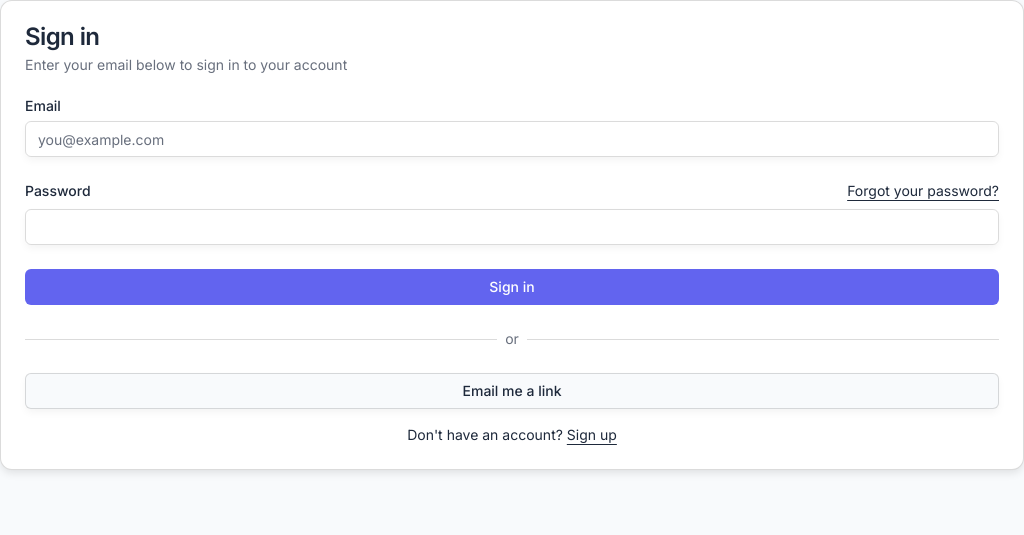
Test case: LoginForm › should show suspension copy when sign in is blocked for a banned user
In the field labelled "Email": (512, 139) 25,121 -> 999,157, type "banned@example.com"
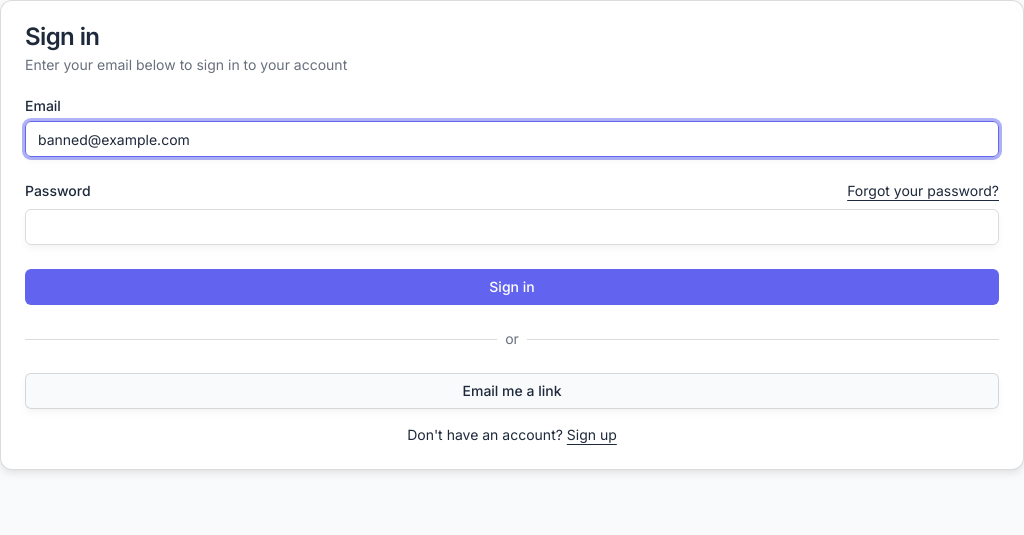
In the password field labelled "Password": (512, 227) 25,209 -> 999,245, type "password123"
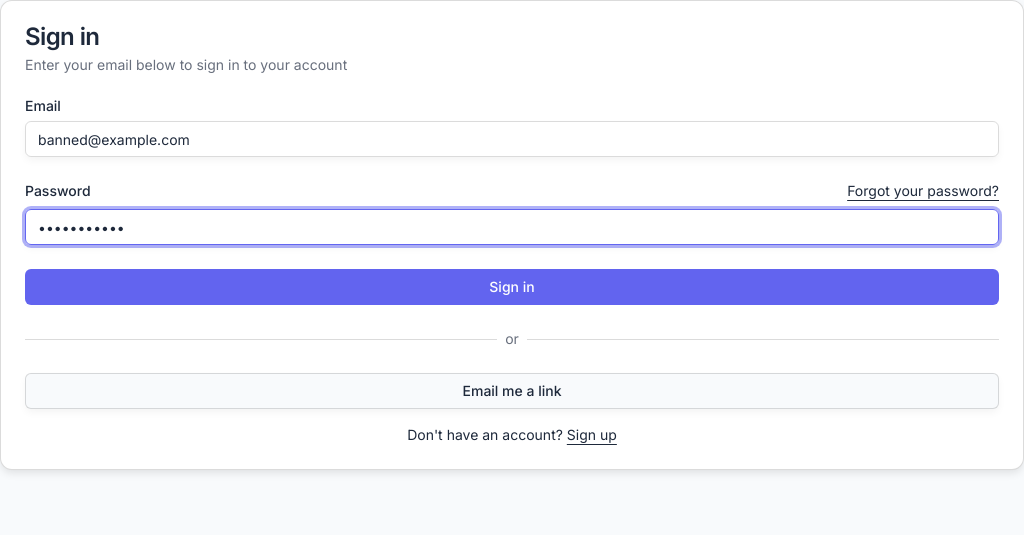
Click the button "Sign in": (512, 287) 25,269 -> 999,305
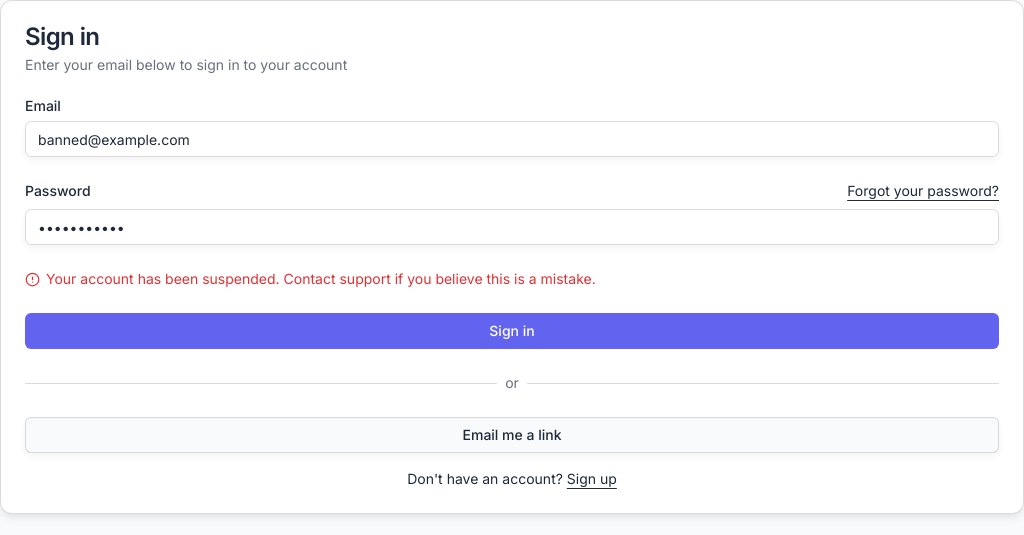
Expected: the text "Your account has been suspended" is shown, 46,270 -> 596,287
